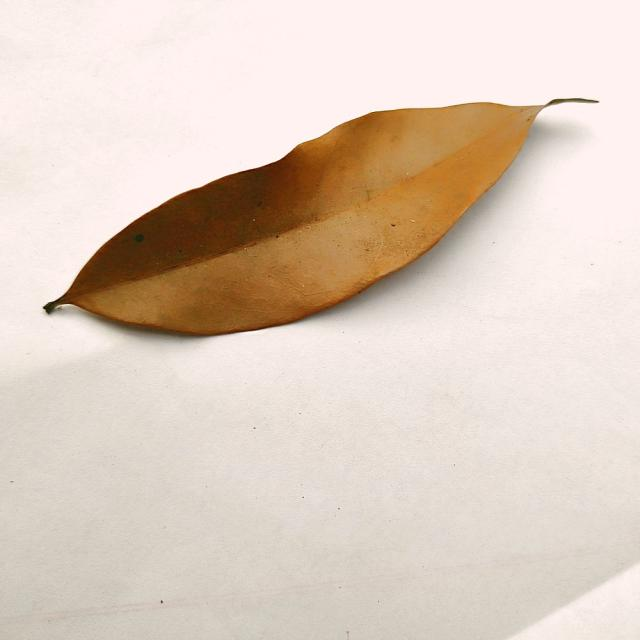Dry_Leaf-Lychee: (45, 98, 593, 340)
